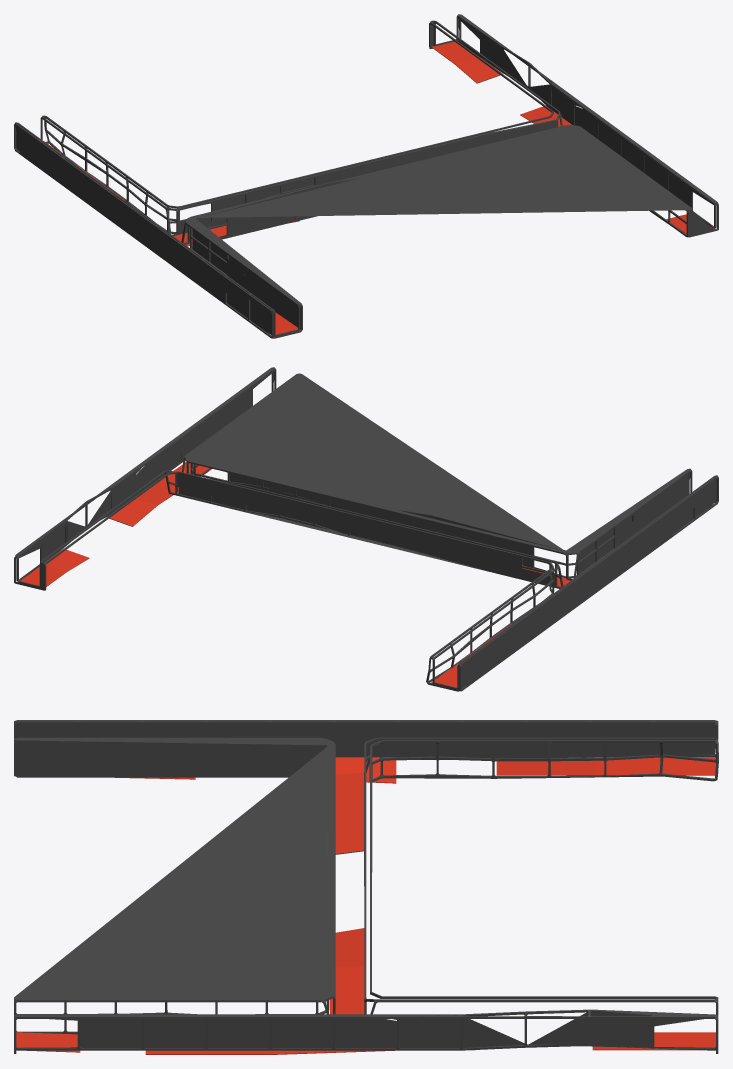
Rendered from Bridge.fbx.
3 views of the same model, one above another, from view 1: azimuth 30°, elevation 25°; view 2: azimuth 150°, elevation 25°; view 3: azimuth 270°, elevation 25° (orthographic). The views are drawn at different scales.
Parts seen in each view (by area): view 1: BrokenFloor, Bridge; view 2: BrokenFloor, Bridge; view 3: BrokenFloor, Bridge.
Part boxes in pixels (bbox=[...]): BrokenFloor: bbox=[14, 14, 718, 338]; Bridge: bbox=[44, 41, 712, 336]; BrokenFloor: bbox=[14, 367, 718, 691]; Bridge: bbox=[20, 462, 570, 689]; BrokenFloor: bbox=[14, 720, 718, 1053]; Bridge: bbox=[16, 757, 715, 1054].
Size of the model in its own units: 15891 by 1186 by 15941.
